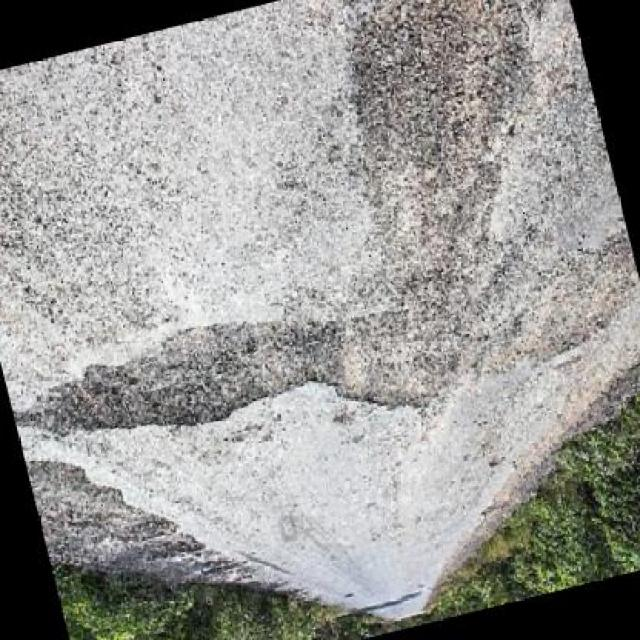pothole1: (28, 309, 315, 466), (308, 288, 443, 434)
